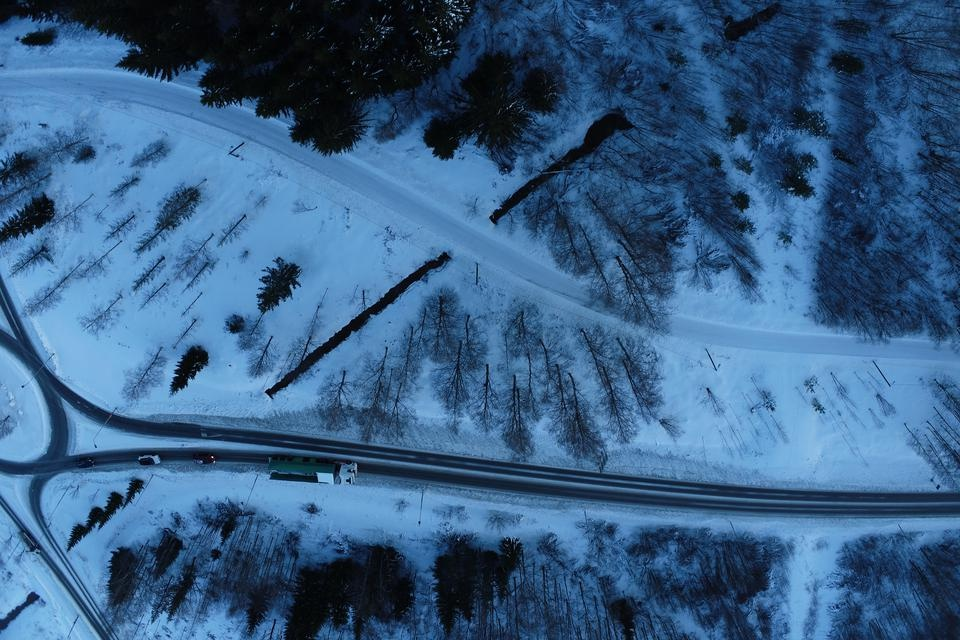roundabout: (0, 304, 104, 520)
